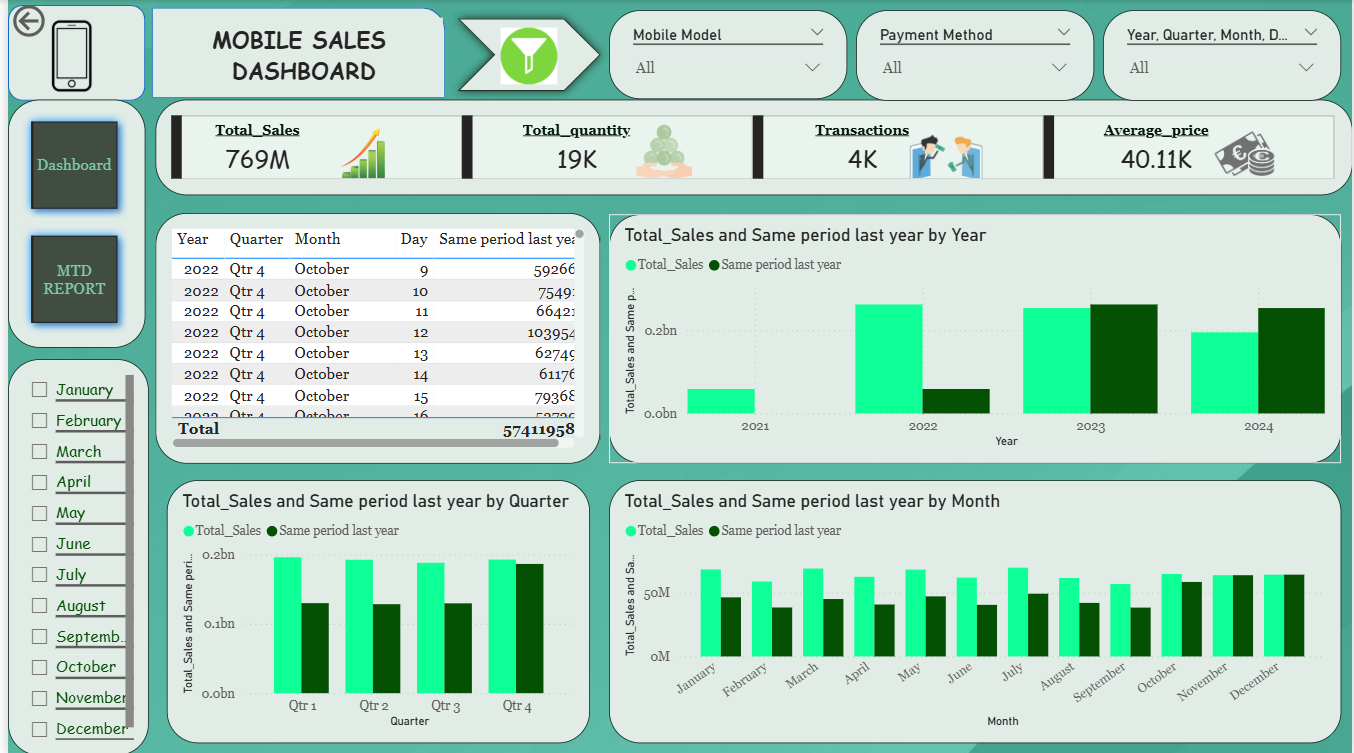

This screenshot's page, from the dashboard's own definition file:
{"tool":"powerbi","page":{"name":"Same Period Last Year","canvas":[1280,720],"ordinal":2},"visuals":[{"type":"shape","box":[420.1,9.6,152.4,85.2],"z":0},{"type":"shape","box":[0,4.8,130.8,91.2],"z":1000},{"type":"image","box":[7.2,12,106.8,82.8],"z":2000},{"type":"shape","box":[0,94.8,130.8,236.4],"z":3000},{"type":"cardVisual","fields":{"Data":["Sales_Data.Total_Sales","Sales_Data.Total_quantity","Sales_Data.Transactions","Sales_Data.Average_price"]},"box":[140.4,94.8,1140.2,91.2],"z":4000},{"type":"slicer","fields":{"Values":["Custom_calendar.Date.Variation.Date Hierarchy.Year","Custom_calendar.Date.Variation.Date Hierarchy.Quarter","Custom_calendar.Date.Variation.Date Hierarchy.Month","Custom_calendar.Date.Variation.Date Hierarchy.Day"]},"box":[1043,9.6,226.8,86.4],"z":5000},{"type":"slicer","fields":{"Values":["Sales_Data.Payment Method"]},"box":[807.7,9.6,226.8,86.4],"z":6000},{"type":"slicer","fields":{"Values":["Sales_Data.Mobile Model"]},"box":[572.5,9.6,226.8,85.2],"z":7000},{"type":"shape","box":[136.8,7.2,279.6,86.4],"z":8000},{"type":"textbox","box":[140.4,16.8,273.6,70.8],"z":9000},{"type":"image","box":[464,19.4,63.9,68.1],"z":10000},{"type":"actionButton","box":[0,0,100,40],"z":11000},{"type":"slicer","fields":{"Values":["Custom_calendar.Date.Variation.Date Hierarchy.Month"]},"box":[0,341.9,134.4,378.1],"z":12000},{"type":"tableEx","fields":{"Values":["Custom_calendar.Date.Variation.Date Hierarchy.Year","Custom_calendar.Date.Variation.Date Hierarchy.Quarter","Custom_calendar.Date.Variation.Date Hierarchy.Month","Custom_calendar.Date.Variation.Date Hierarchy.Day","Sales_Data.Same period last year"]},"box":[140.4,202.8,423.7,238.8],"z":13000},{"type":"clusteredColumnChart","fields":{"Category":["Custom_calendar.Date.Variation.Date Hierarchy.Year","Custom_calendar.Date.Variation.Date Hierarchy.Quarter","Custom_calendar.Date.Variation.Date Hierarchy.Month","Custom_calendar.Date.Variation.Date Hierarchy.Day"],"Y":["Sales_Data.Total_Sales","Sales_Data.Same period last year"]},"box":[572.5,204,697.3,237.6],"z":14000},{"type":"clusteredColumnChart","fields":{"Category":["Custom_calendar.Date.Variation.Date Hierarchy.Year","Custom_calendar.Date.Variation.Date Hierarchy.Quarter","Custom_calendar.Date.Variation.Date Hierarchy.Month","Custom_calendar.Date.Variation.Date Hierarchy.Day"],"Y":["Sales_Data.Total_Sales","Sales_Data.Same period last year"]},"box":[572.5,457.3,697.3,250.8],"z":15000},{"type":"clusteredColumnChart","fields":{"Category":["Custom_calendar.Date.Variation.Date Hierarchy.Year","Custom_calendar.Date.Variation.Date Hierarchy.Quarter","Custom_calendar.Date.Variation.Date Hierarchy.Month","Custom_calendar.Date.Variation.Date Hierarchy.Day"],"Y":["Sales_Data.Total_Sales","Sales_Data.Same period last year"]},"box":[151.2,457.3,403.3,250.8],"z":16000},{"type":"pageNavigator","box":[13.2,106.8,100.8,211.2],"z":17000}]}

Visuals, with their boxes in screenshot pixels (x1, y1, x2, y2), scaled from the page's 1280x720 canvas onto the 1354x753 screenshot:
shape: crop(444, 10, 606, 99)
shape: crop(0, 5, 138, 100)
image: crop(8, 13, 121, 99)
shape: crop(0, 99, 138, 346)
cardVisual - Sales_Data.Total_Sales x Sales_Data.Total_quantity: crop(149, 99, 1353, 195)
slicer - Custom_calendar.Date.Variation.Date Hierarchy.Year x Custom_calendar.Date.Variation.Date Hierarchy.Quarter: crop(1103, 10, 1343, 100)
slicer - Sales_Data.Payment Method: crop(854, 10, 1094, 100)
slicer - Sales_Data.Mobile Model: crop(606, 10, 846, 99)
shape: crop(145, 8, 440, 98)
textbox: crop(149, 18, 438, 92)
image: crop(491, 20, 558, 92)
actionButton: crop(0, 0, 106, 42)
slicer - Custom_calendar.Date.Variation.Date Hierarchy.Month: crop(0, 358, 142, 752)
tableEx - Custom_calendar.Date.Variation.Date Hierarchy.Year x Custom_calendar.Date.Variation.Date Hierarchy.Quarter: crop(149, 212, 597, 462)
clusteredColumnChart - Custom_calendar.Date.Variation.Date Hierarchy.Year x Custom_calendar.Date.Variation.Date Hierarchy.Quarter: crop(606, 213, 1343, 462)
clusteredColumnChart - Custom_calendar.Date.Variation.Date Hierarchy.Year x Custom_calendar.Date.Variation.Date Hierarchy.Quarter: crop(606, 478, 1343, 741)
clusteredColumnChart - Custom_calendar.Date.Variation.Date Hierarchy.Year x Custom_calendar.Date.Variation.Date Hierarchy.Quarter: crop(160, 478, 587, 741)
pageNavigator: crop(14, 112, 121, 333)
